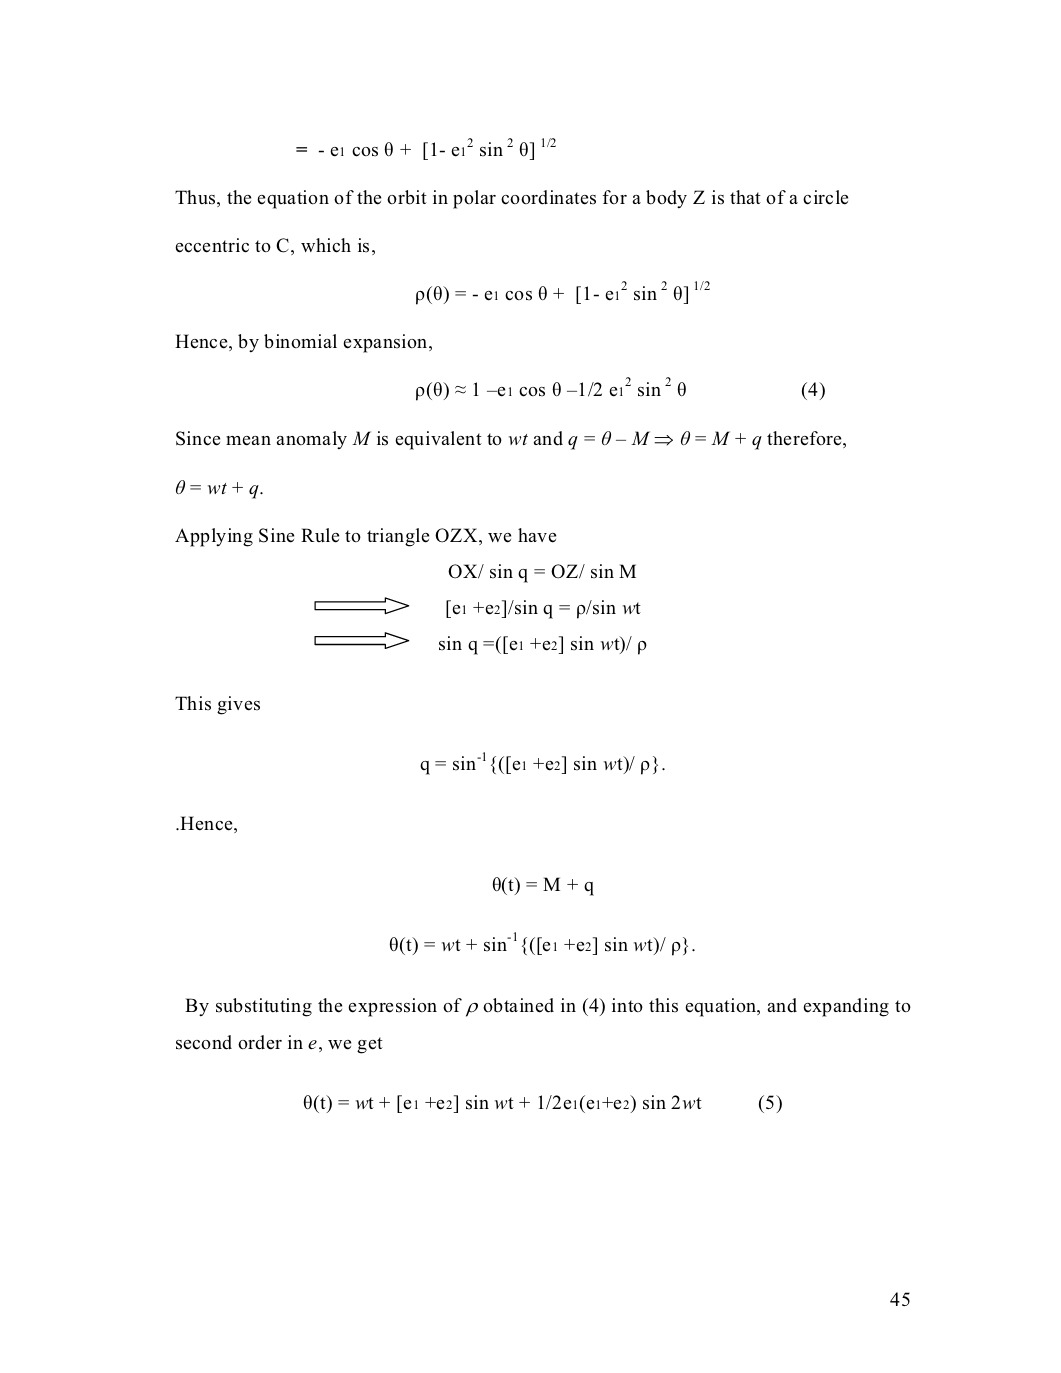figure: (314, 597, 409, 647)
formula: (416, 376, 824, 401), (303, 1094, 781, 1113), (389, 931, 694, 956), (416, 280, 709, 305), (296, 137, 555, 160), (420, 751, 664, 775), (448, 562, 636, 583), (439, 636, 646, 654), (446, 600, 640, 619), (491, 875, 593, 896)
